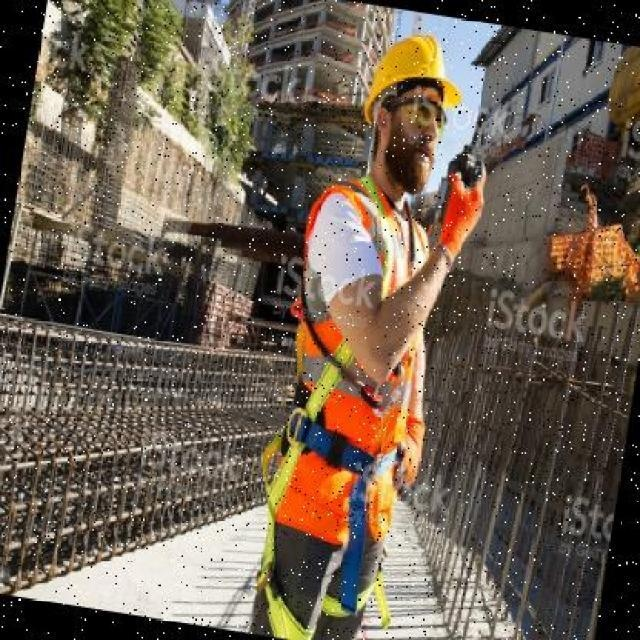Arnes_seguridad: (234, 161, 457, 640)
